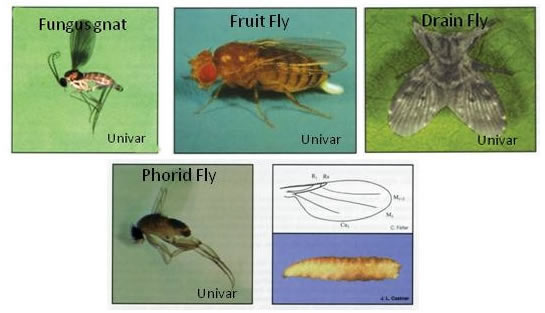phorid fly: (125, 187, 239, 290)
